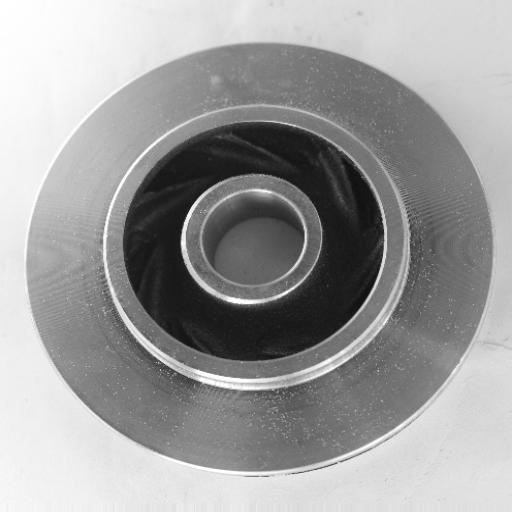polished_casting: (22, 39, 494, 476)
